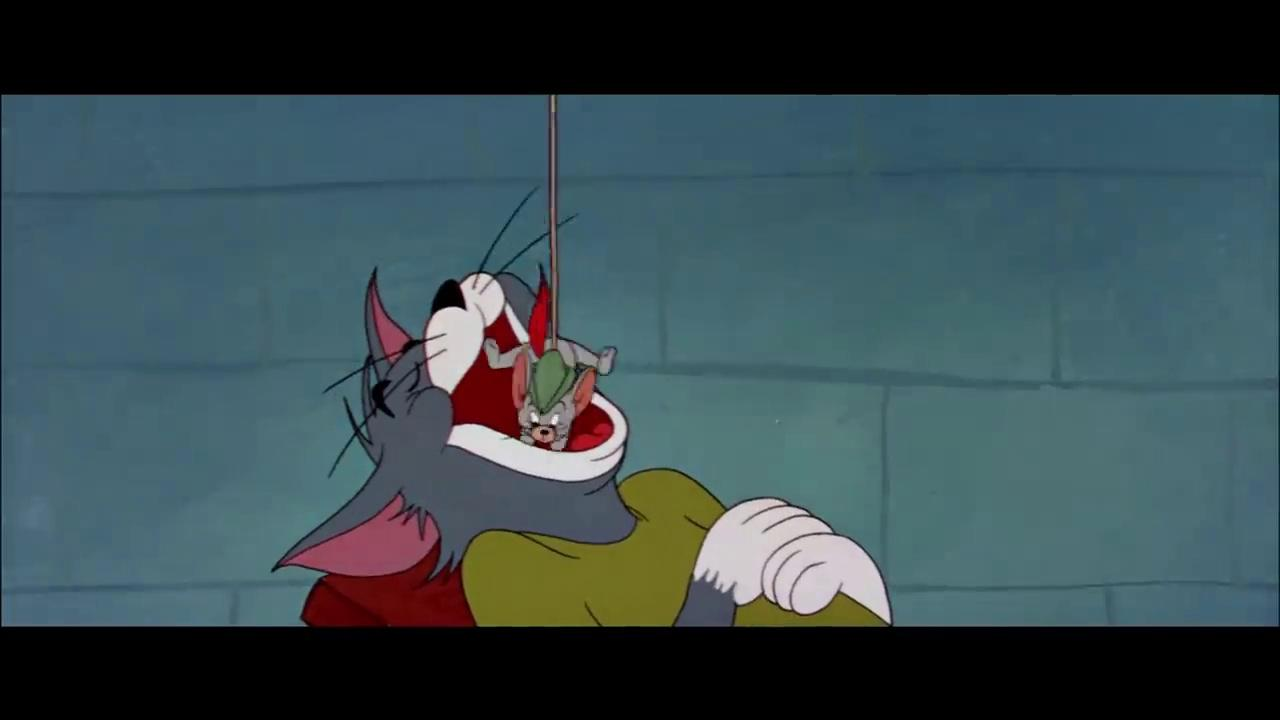Tom: (272, 262, 893, 625)
